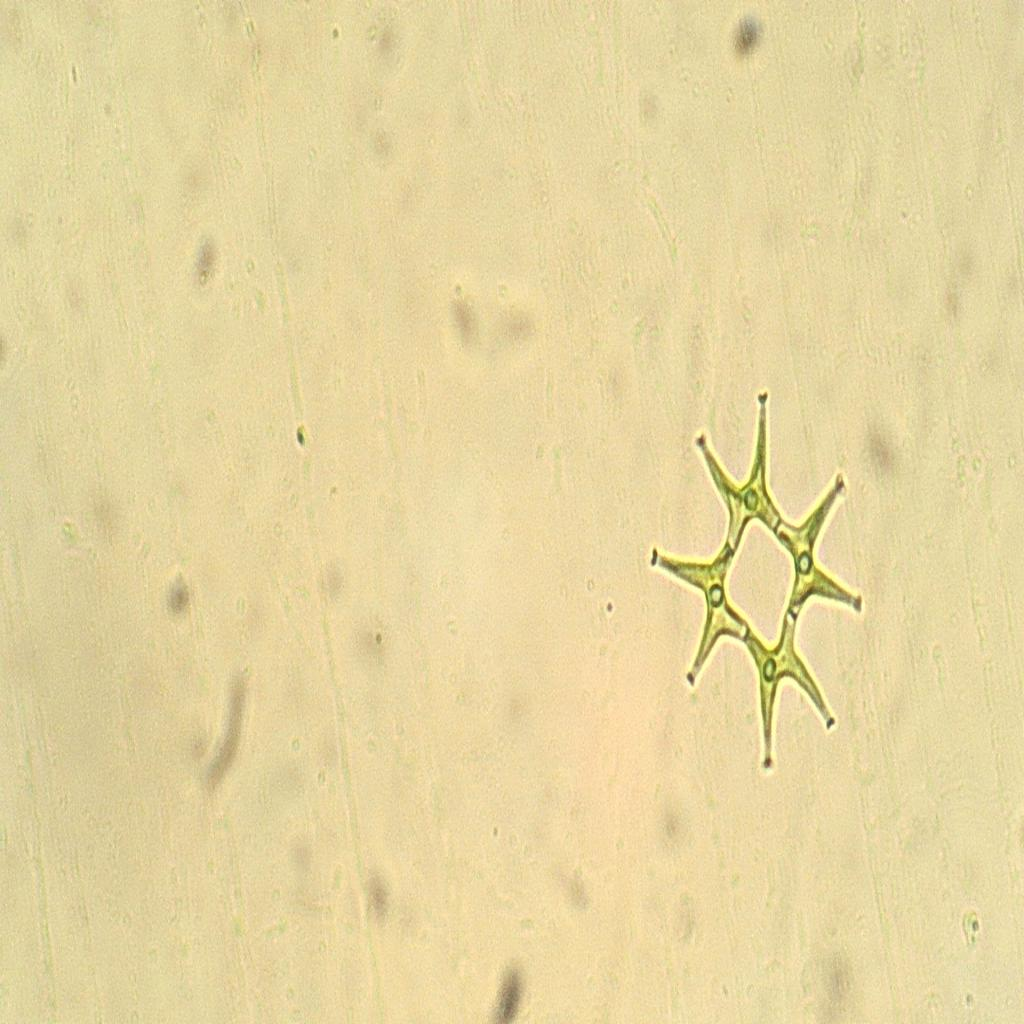Pediastrum_10: (641, 380, 883, 790)
